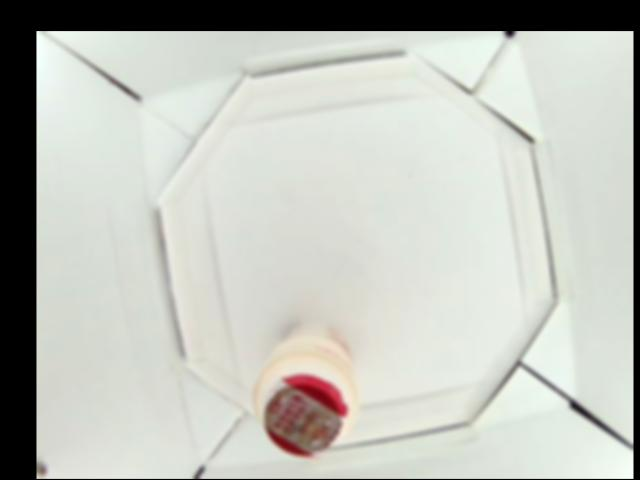Bottle: (252, 324, 356, 460)
